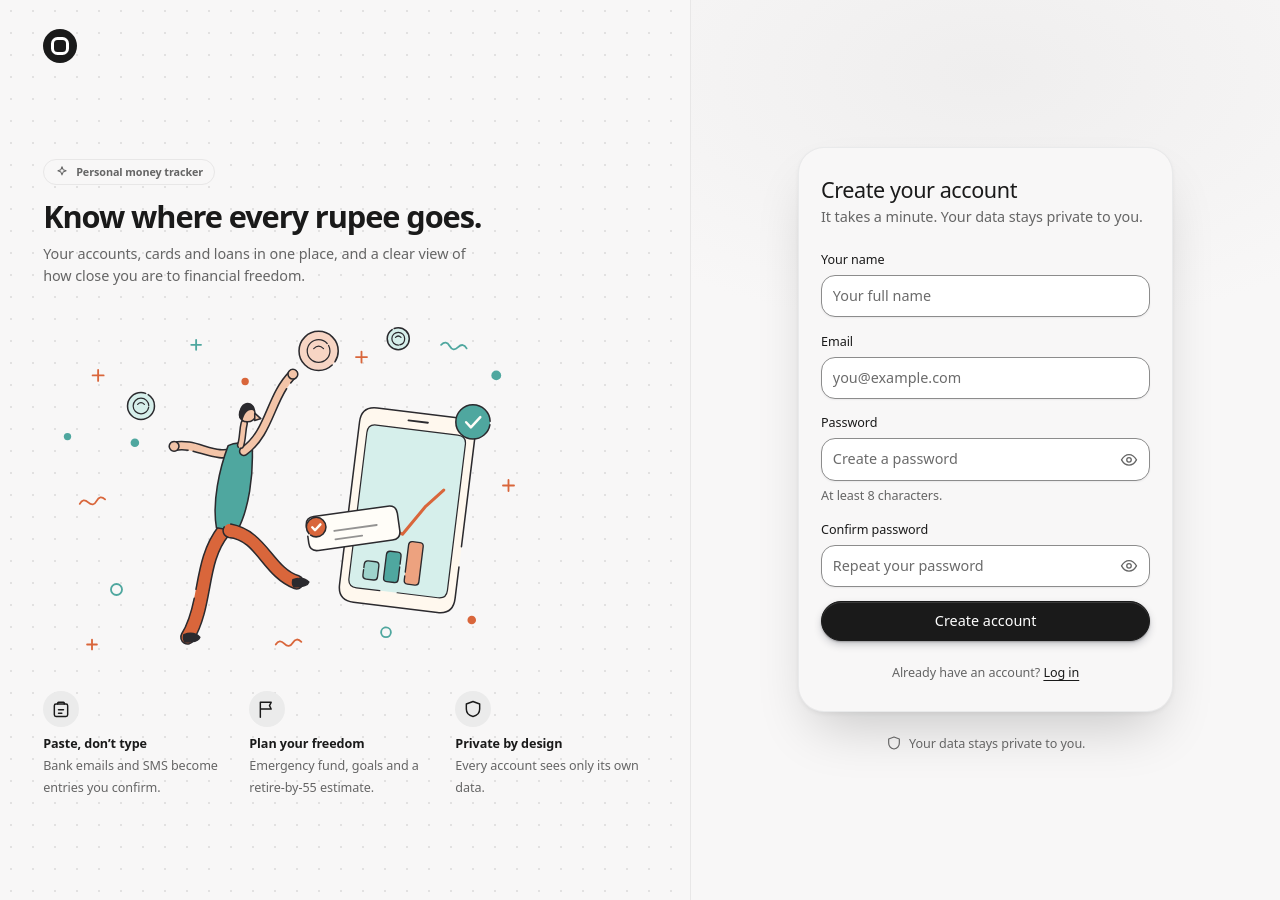
App › checks that the two passwords match
Type "Asha" into the field labelled "Your name" at (986, 296), box [821,275,1150,317]
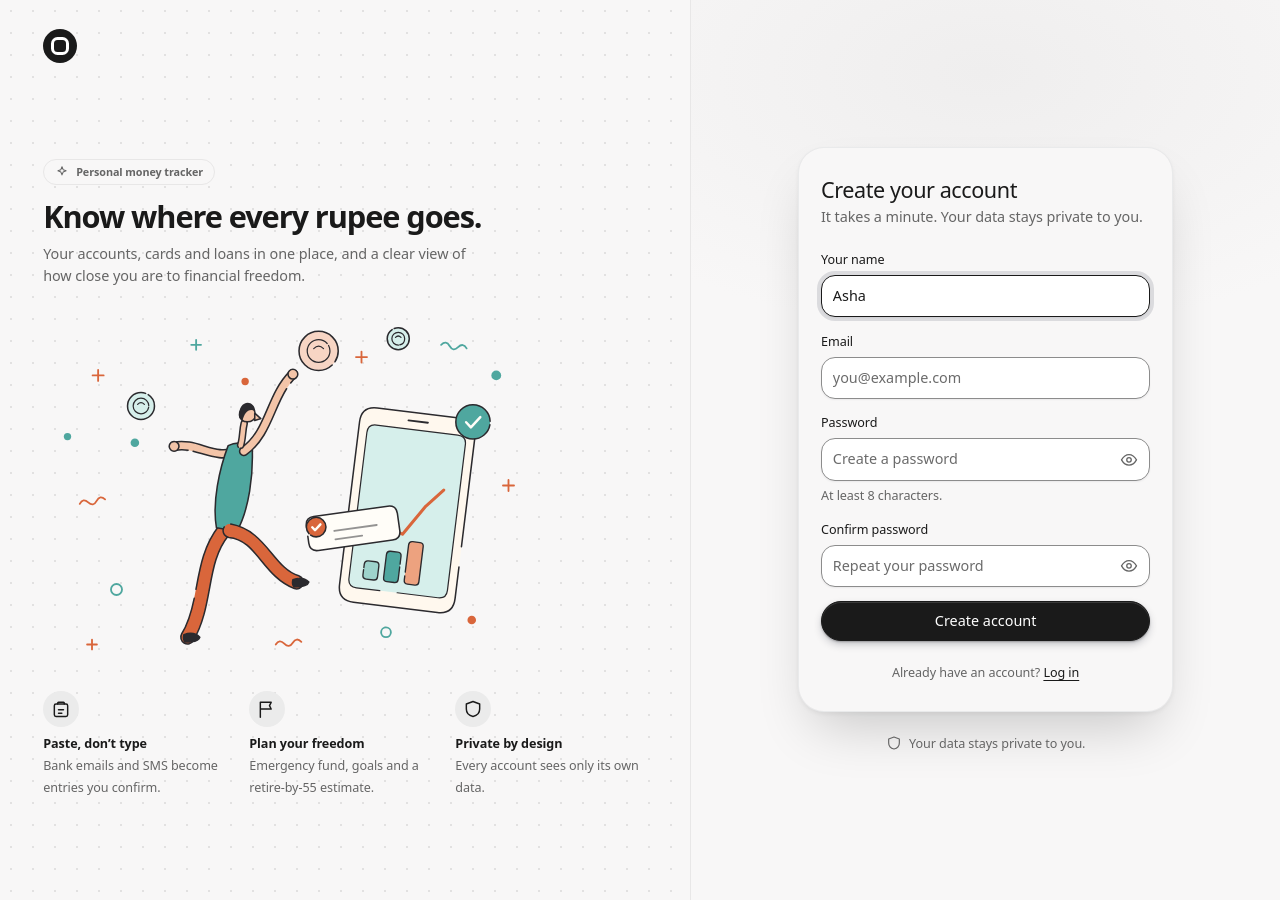
Type "asha@example.com" into the field labelled "Email" at (986, 378), box [821,357,1150,399]
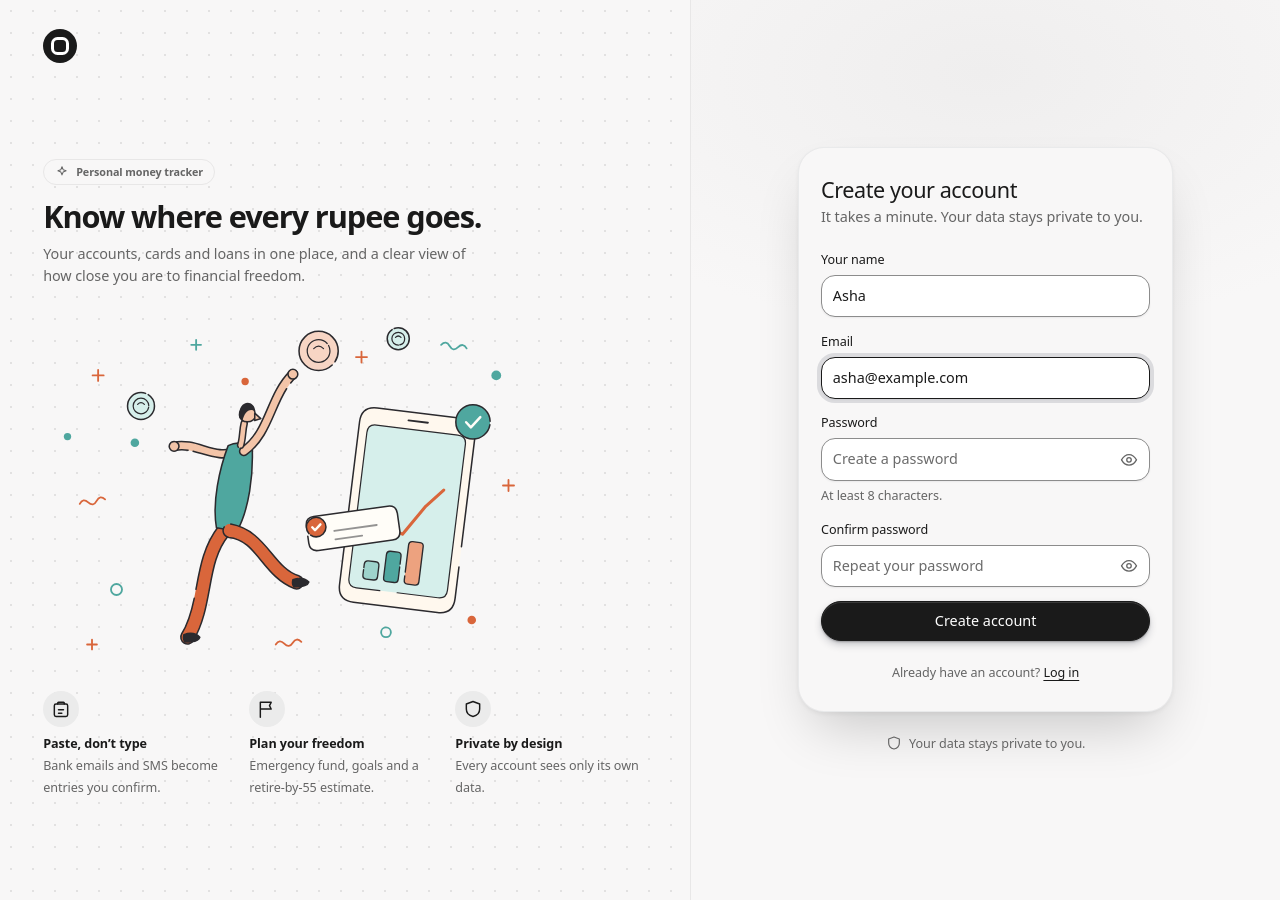
Type "longenough1" into the password field labelled "Password" at (986, 459), box [821,438,1150,481]
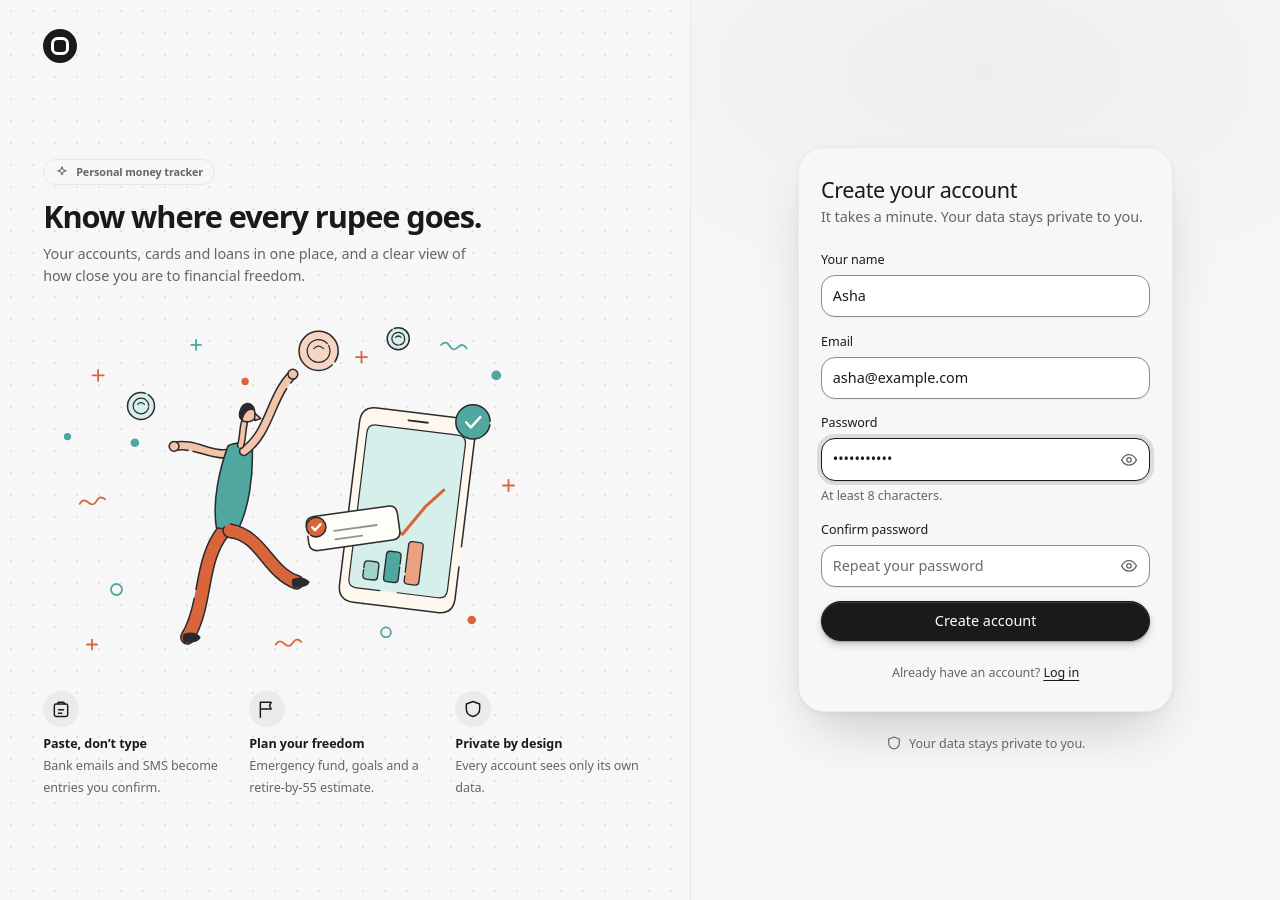
Type "different" into the password field labelled "Confirm password" at (986, 566), box [821,545,1150,587]
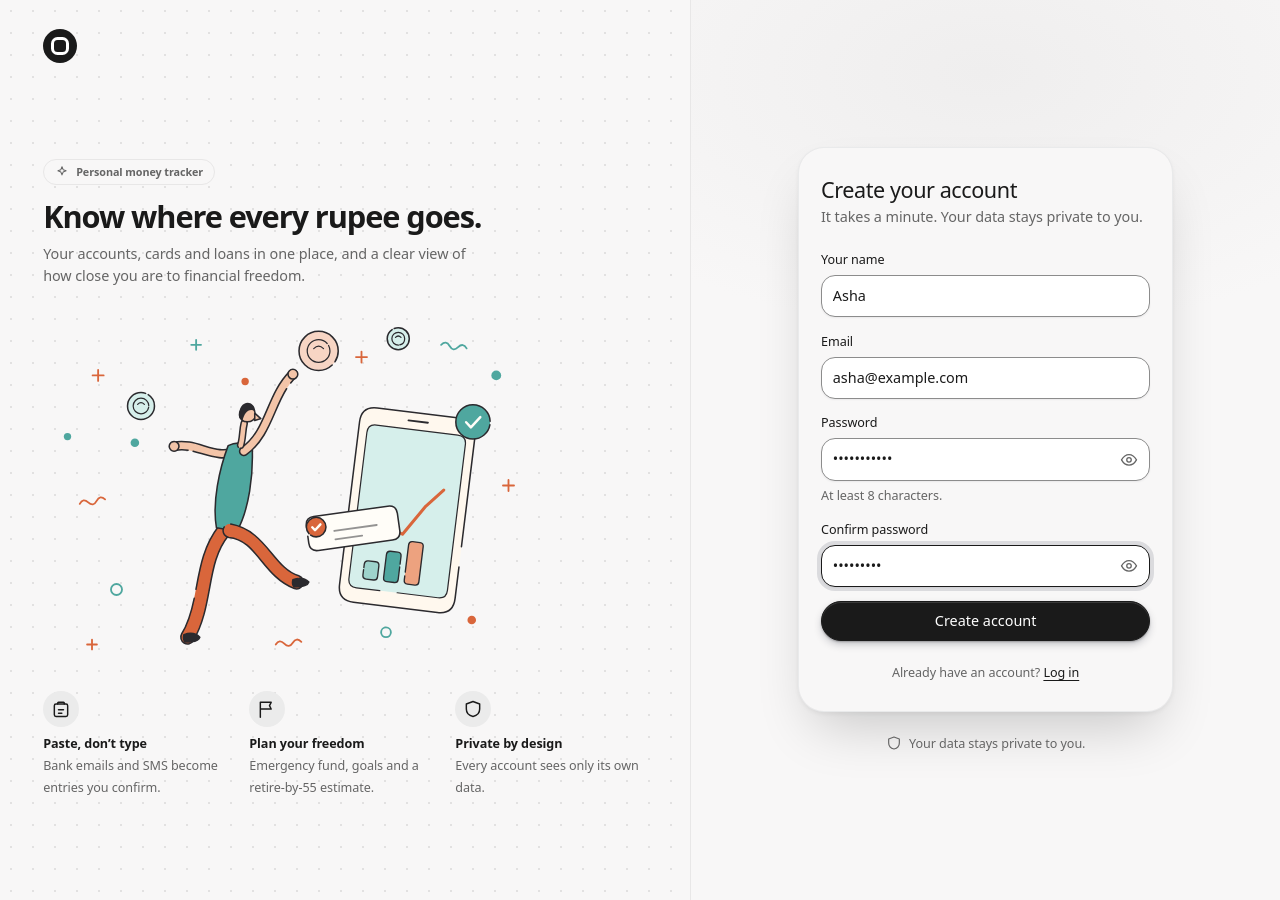
Click the button "Create account" at (986, 621), box [821,601,1150,641]
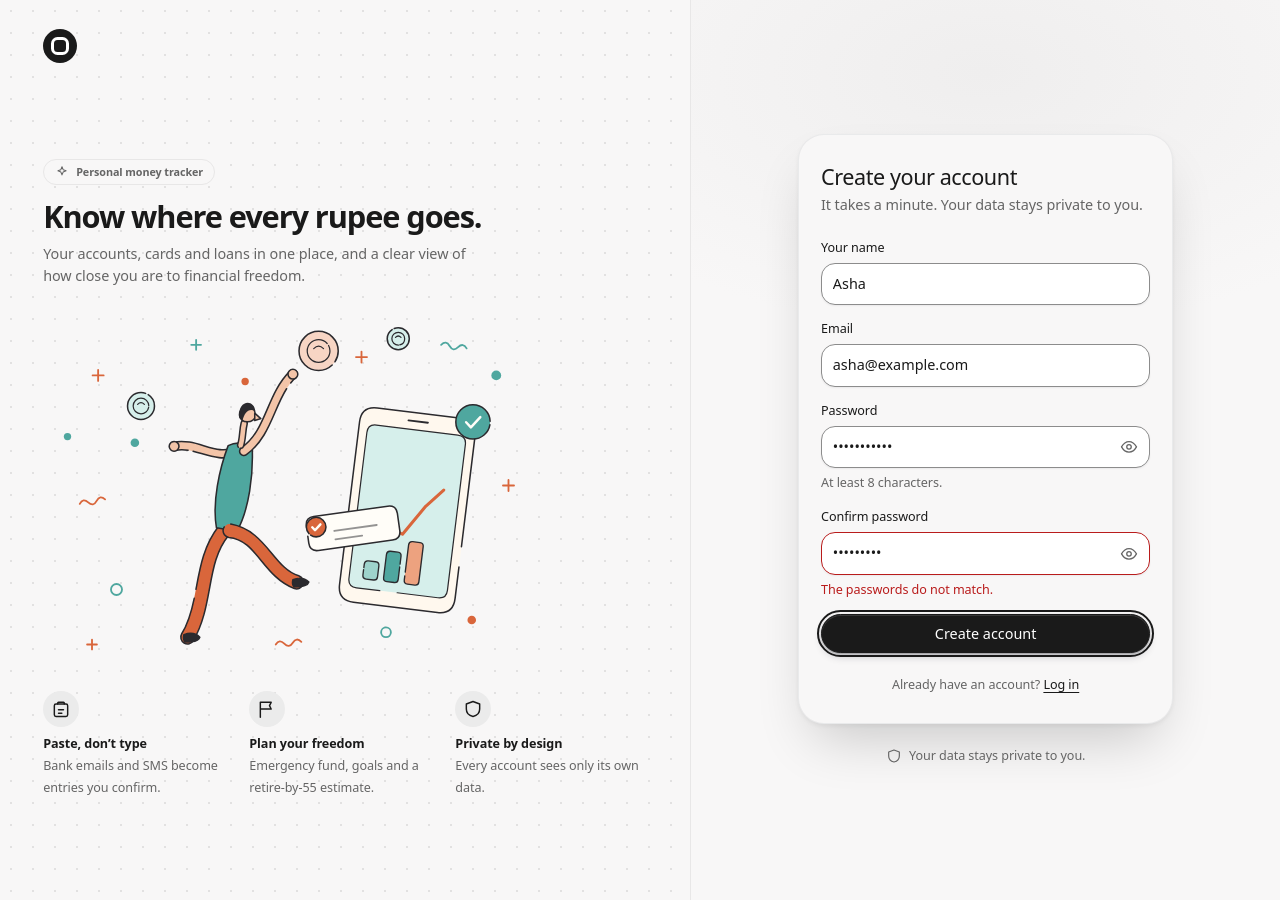
Check: the text "The passwords do not match." is shown, box [821,581,993,598]
